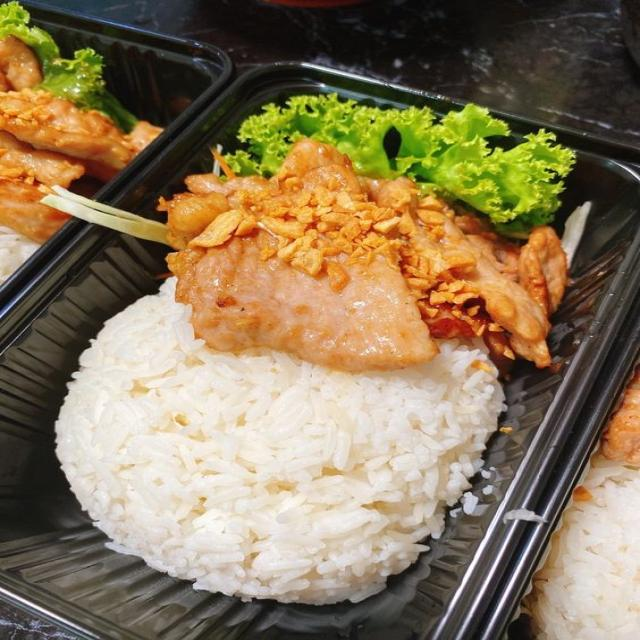Carbohydrate: (53, 268, 507, 607)
Kaow-Friedpork: (13, 57, 625, 640)
Protein: (154, 141, 567, 372)
Vegetable: (219, 86, 572, 220)
